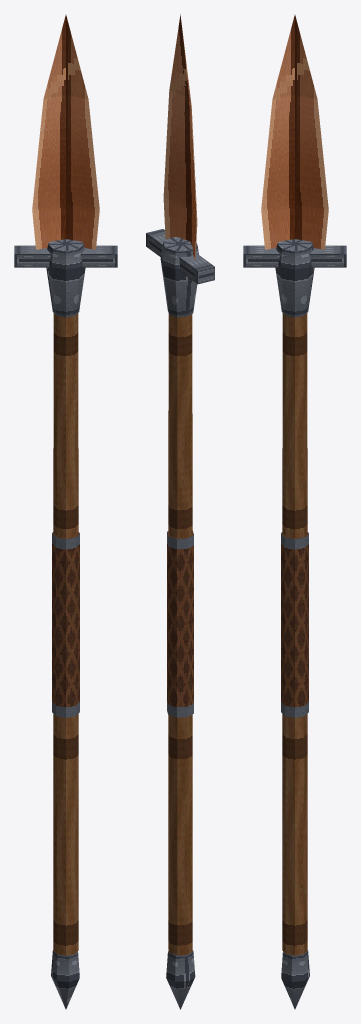
Rendered from lanca_de_cobre.glb.
3 views of the same model, side by side, from view 1: azimuth 90°, elevation 25°; view 2: azimuth 210°, elevation 25°; view 3: azimuth 270°, elevation 25° (orthographic).
Visible parts, largest first — view 1: lanca_de_cobre; view 2: lanca_de_cobre; view 3: lanca_de_cobre.
Part boxes in pixels (x1,y1,x2,y2): lanca_de_cobre: (14, 15, 117, 1009); lanca_de_cobre: (146, 14, 214, 1009); lanca_de_cobre: (243, 15, 346, 1009).
Bounding box in the file's own units: 0.088 × 2.34 × 0.22.
Materials: 1 (1 with a texture image).
